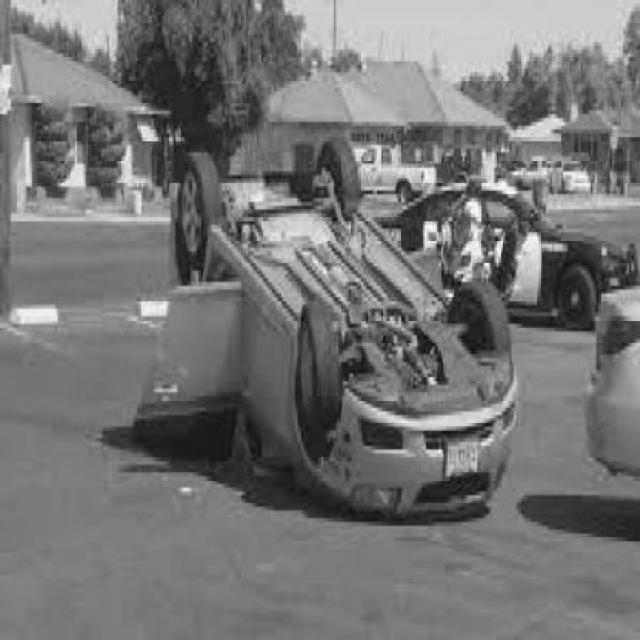accident: (135, 138, 514, 530)
vehicle: (371, 179, 635, 317), (586, 262, 640, 494), (358, 136, 437, 201), (546, 156, 593, 208)
